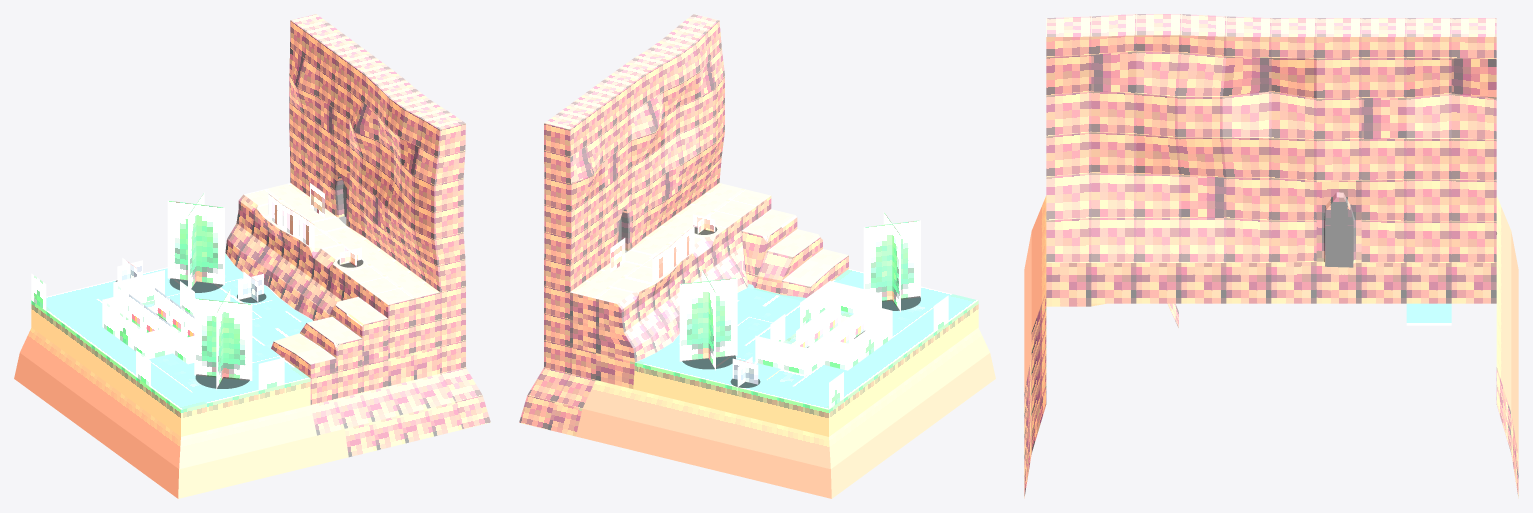
The picture shows the model from 3 angles, left to right: view 1: azimuth 30°, elevation 25°; view 2: azimuth 150°, elevation 25°; view 3: azimuth 270°, elevation 25°; orthographic projection. The views are drawn at different scales.
Parts seen in each view (by area): view 1: Plane, flowers, arbol.001, arbol, shadows, stone.001; view 2: Plane, flowers, arbol, arbol.001, shadows, stone.002; view 3: Plane.
Boxes of the visible parts, bbox=[...] form: Plane: bbox=[14, 14, 490, 498]; flowers: bbox=[31, 270, 284, 390]; arbol.001: bbox=[194, 289, 252, 389]; arbol: bbox=[167, 192, 224, 288]; shadows: bbox=[116, 259, 363, 388]; stone.001: bbox=[238, 271, 263, 302]; Plane: bbox=[519, 14, 995, 498]; flowers: bbox=[755, 281, 948, 409]; arbol: bbox=[679, 269, 737, 370]; arbol.001: bbox=[863, 212, 920, 312]; shadows: bbox=[682, 227, 920, 387]; stone.002: bbox=[732, 356, 758, 393]; Plane: bbox=[1024, 14, 1518, 498].
Size of the model in its own units: 6.04 by 5.5 by 5.49.
